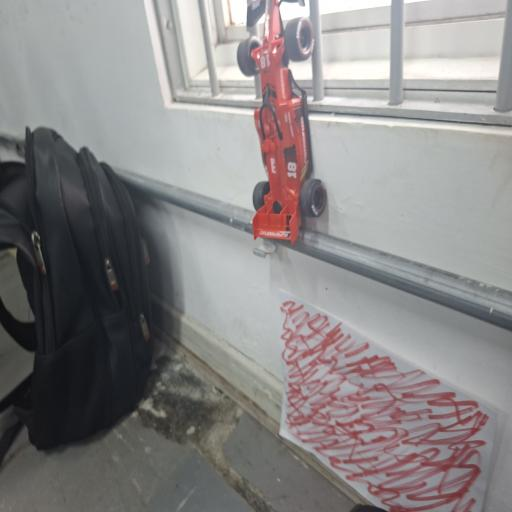carro: (238, 0, 326, 243)
